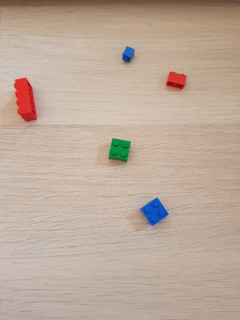1x1 blue: (121, 45, 137, 64)
1x2 red: (166, 72, 187, 90)
2x2 blue: (141, 197, 169, 227)
2x2 green: (108, 137, 132, 163)
2x4 red: (13, 76, 37, 121)
